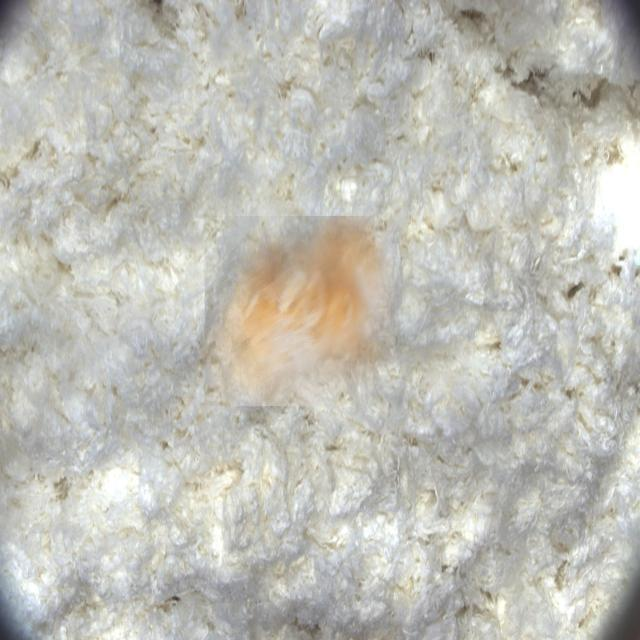dust: (205, 216, 395, 406)
